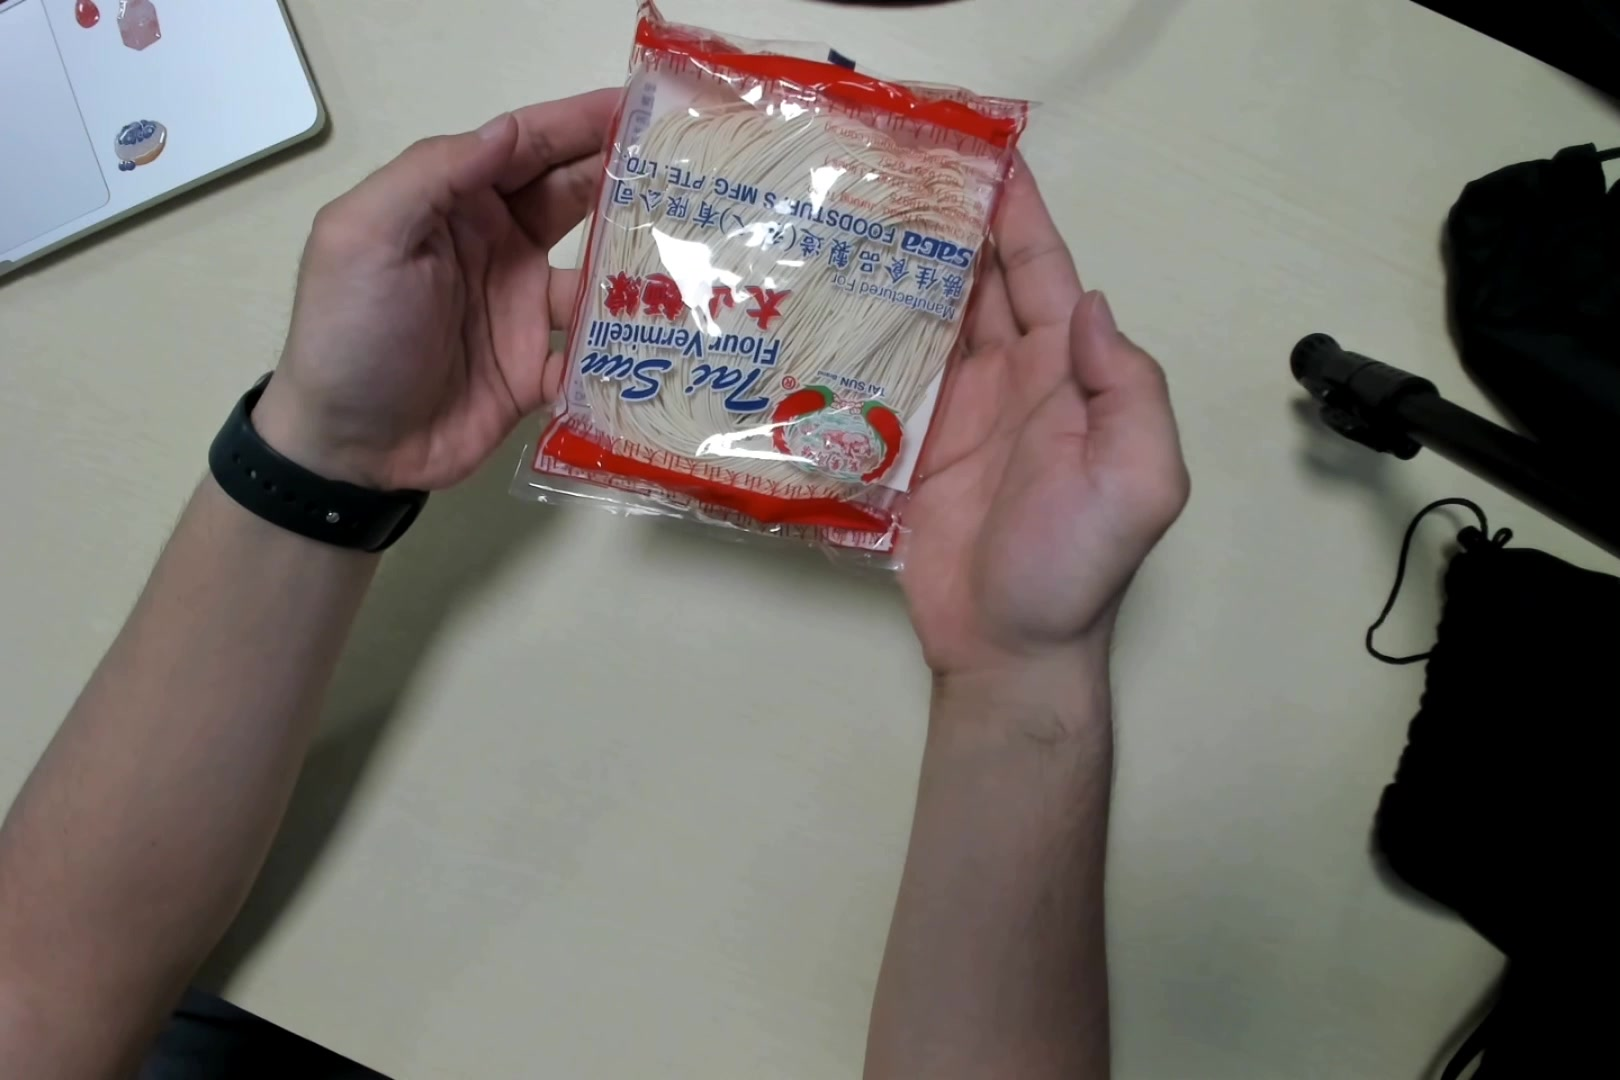BeeHoonVermicelli_100-199g_Halal_NonHealthy: (545, 6, 1032, 568)
